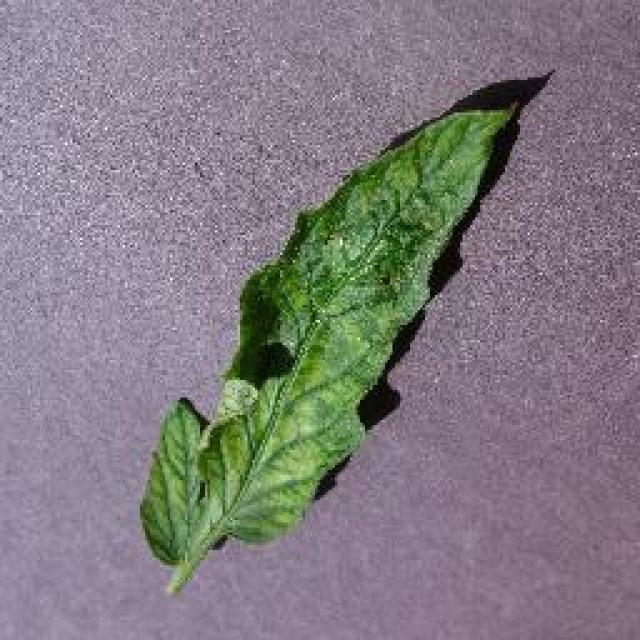Tomato mosaic virus leaf: (138, 96, 522, 572)
